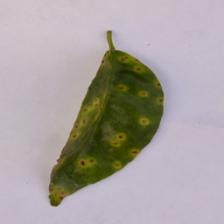canker: (66, 78, 165, 188)
